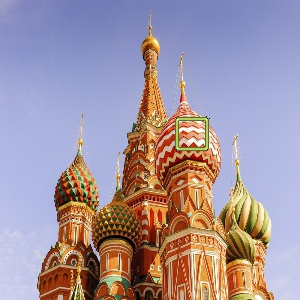square: (175, 116, 210, 151)
